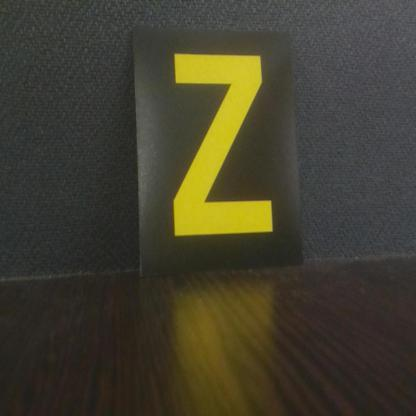z: (135, 26, 302, 267)
